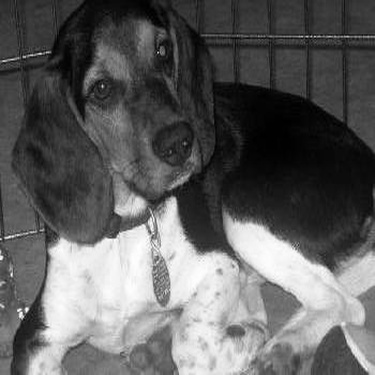dog: (2, 1, 370, 370)
